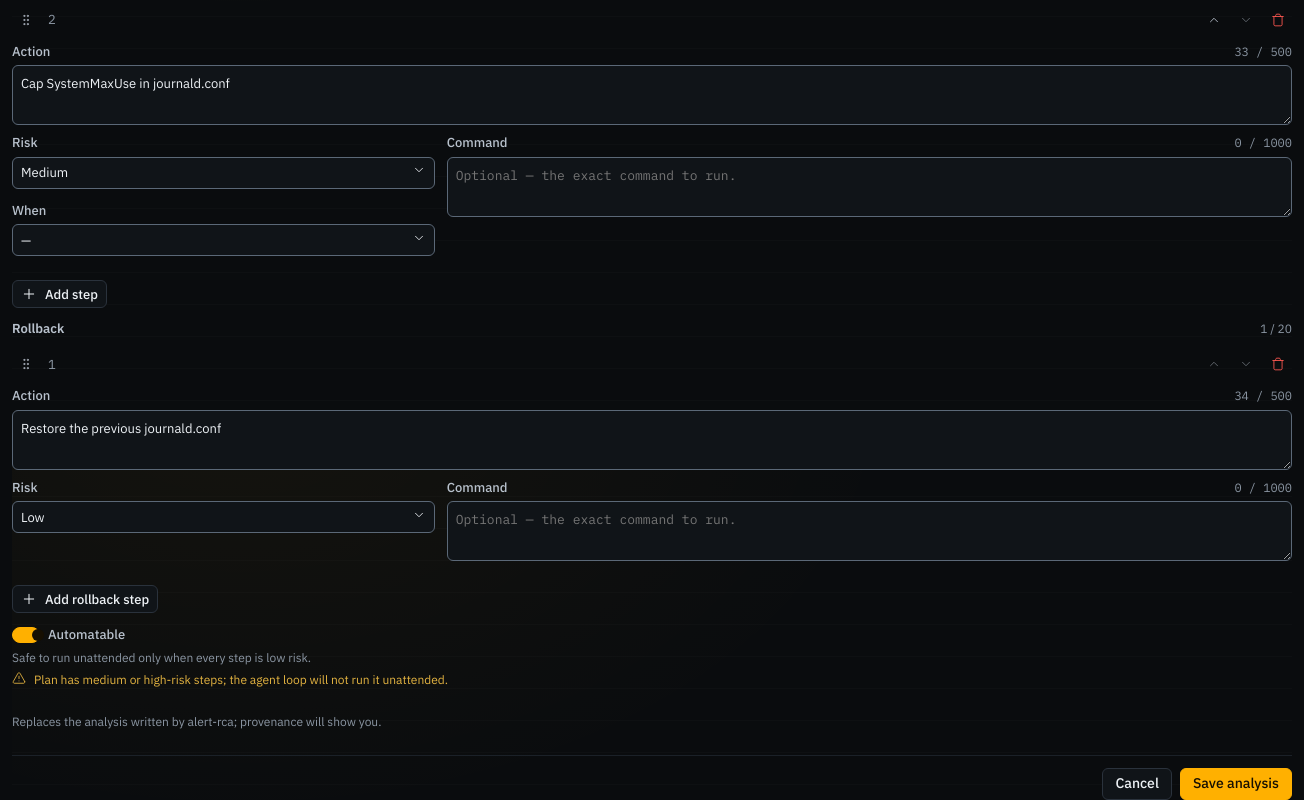
it: AnalysisEditor › keeps the form editable when the session lost rw_protected
(page scrolled)
Click the button "Save analysis": {"x": 1236, "y": 784} [1180, 768, 1292, 799]
(page scrolled)
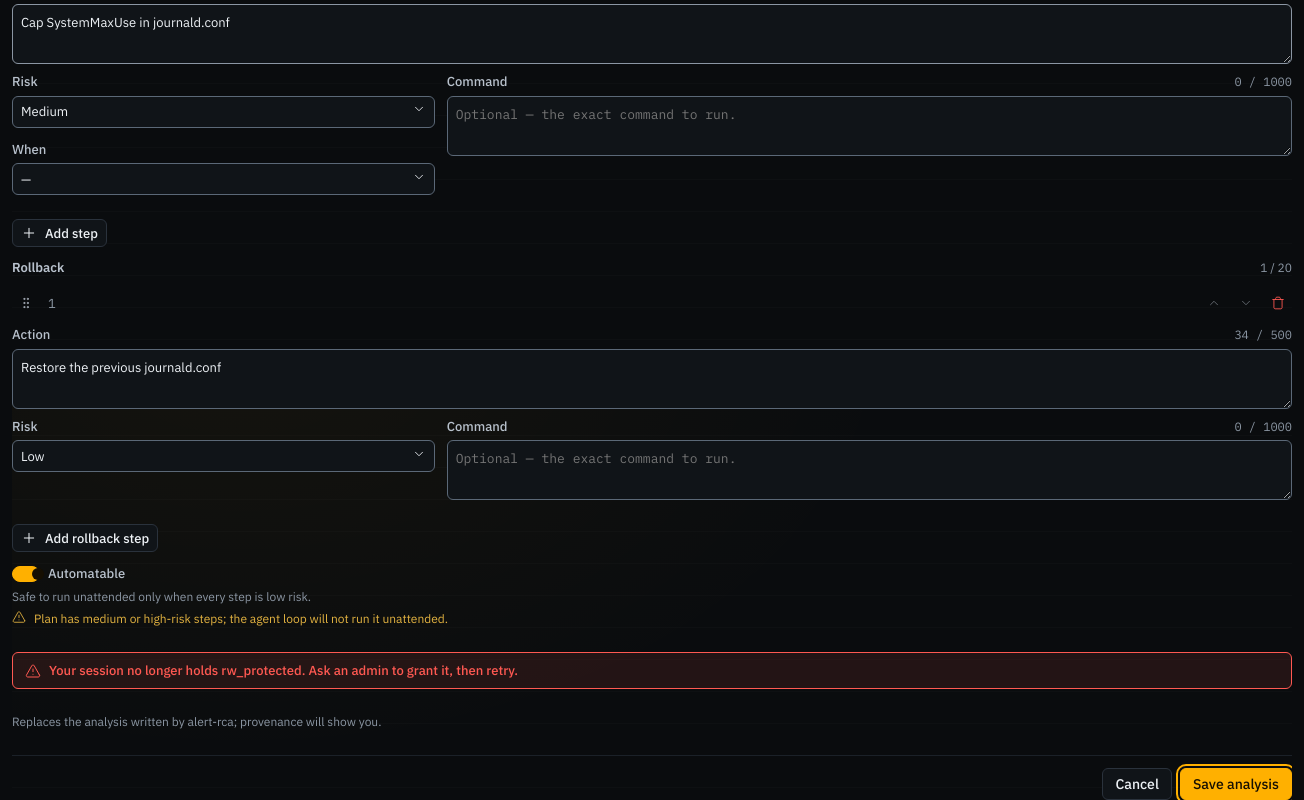
Result: the text "Your session no longer holds rw_protected. Ask an admin to grant it, then retry." is shown at [49, 661, 518, 680]
